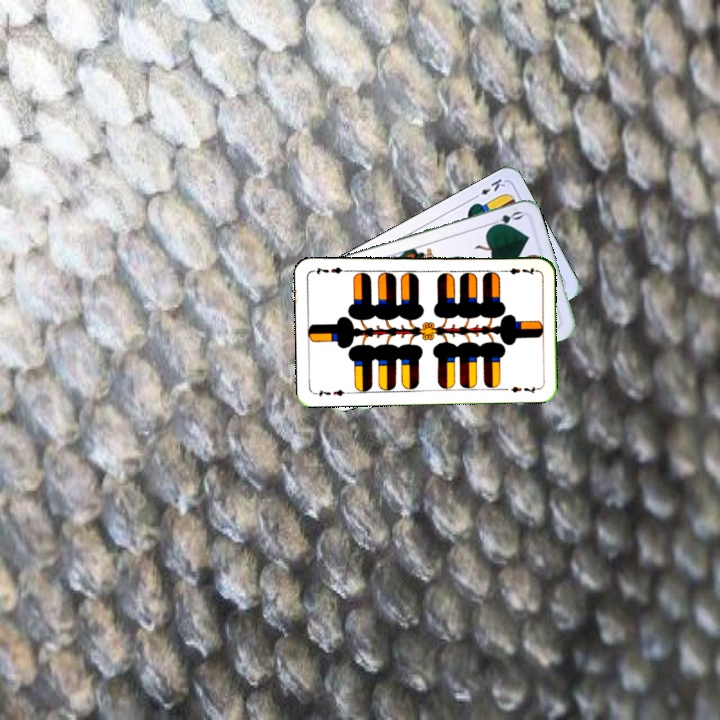E7: (312, 385, 352, 400), (498, 264, 538, 277)
EK: (469, 174, 508, 202)
GO: (485, 207, 525, 231)
